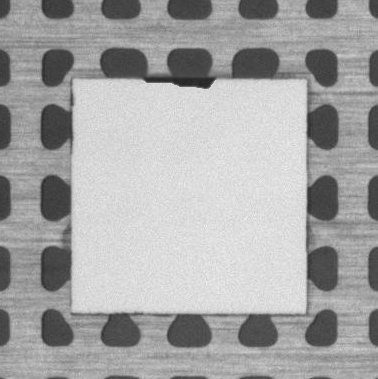DIE_BROKEN: (142, 71, 217, 91)
